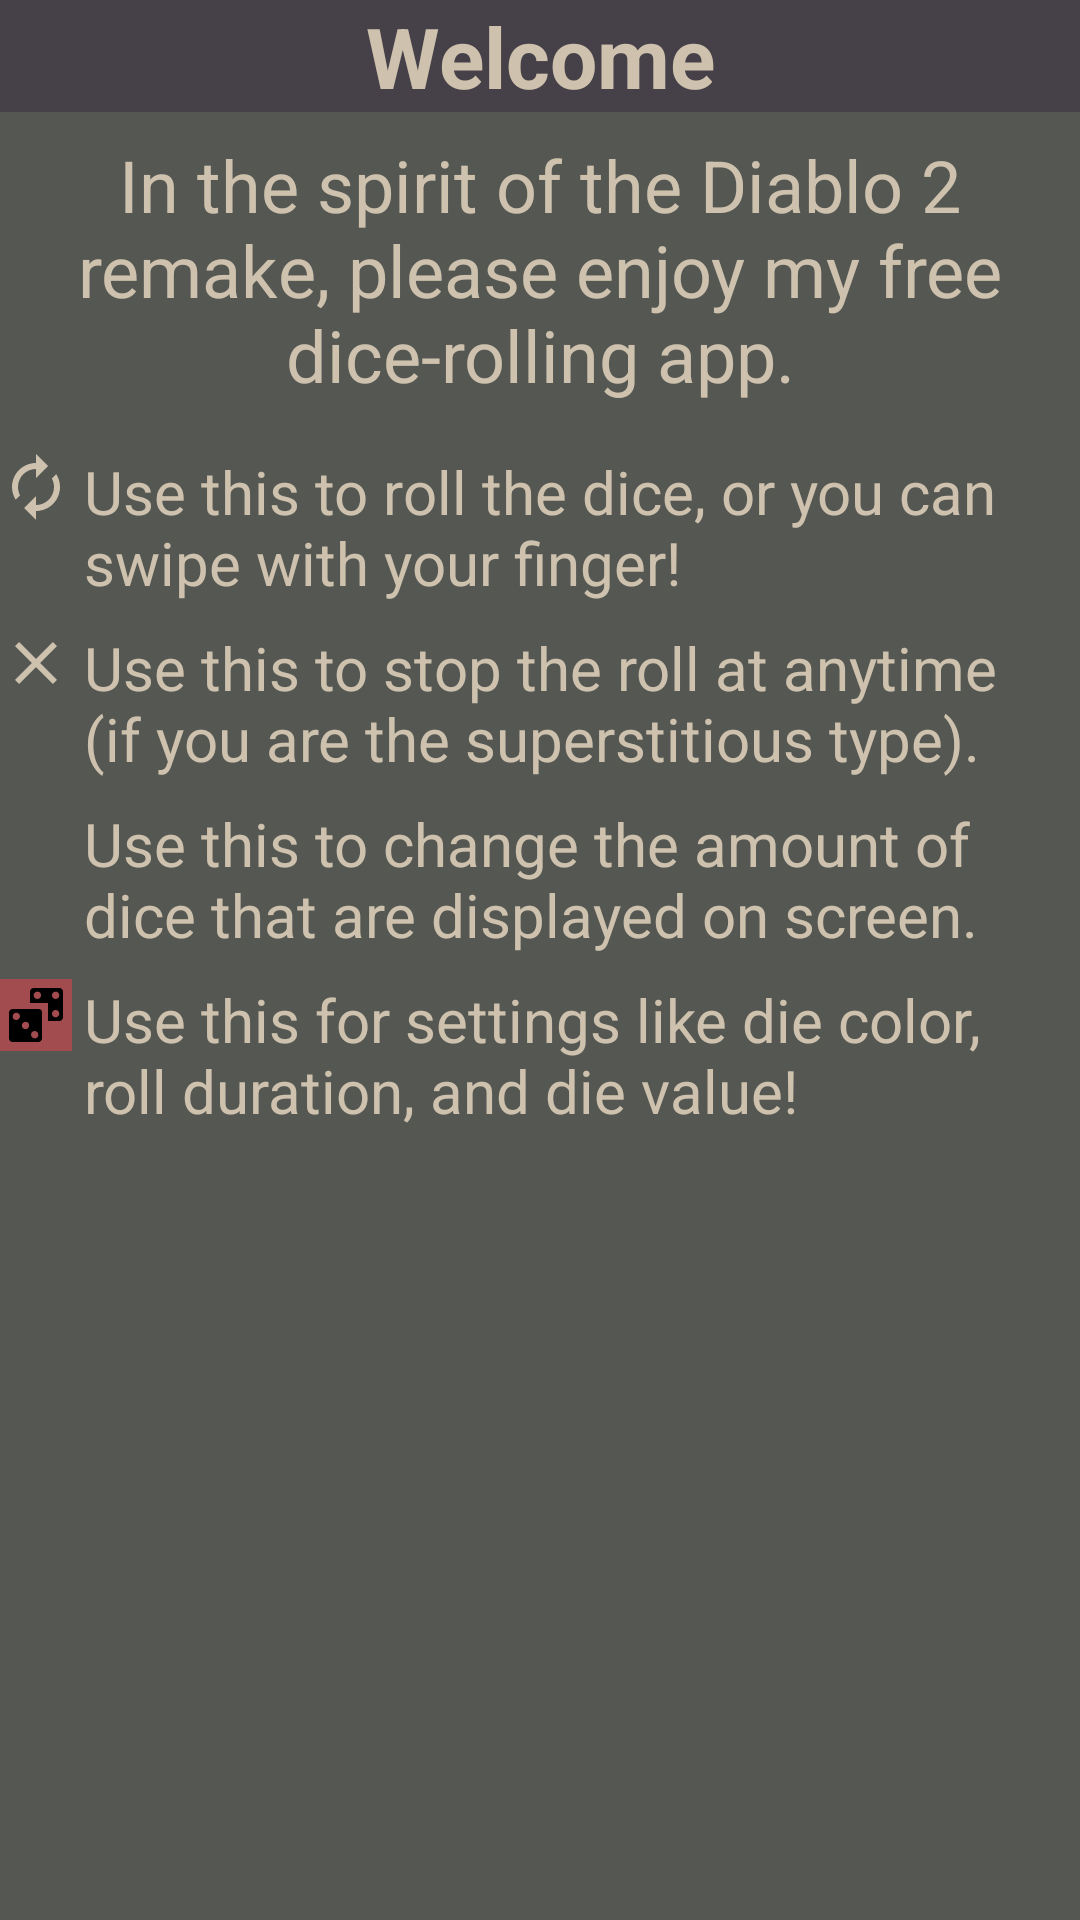

Screen size 1080*1920. Icon name, then its center in pixels as [x,y]:
dice settings image: [36,1015]
